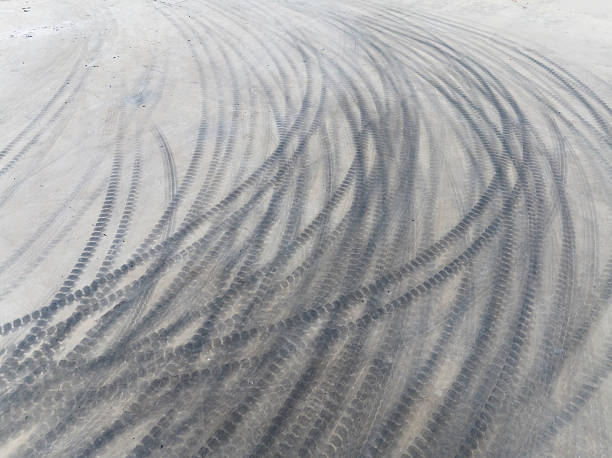vehicle_track: (0, 0, 611, 456), (0, 34, 104, 180), (260, 393, 296, 448), (154, 126, 176, 203), (115, 271, 119, 274)
